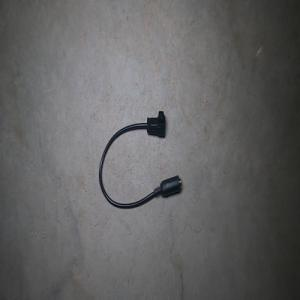Wire: (98, 110, 181, 209)
